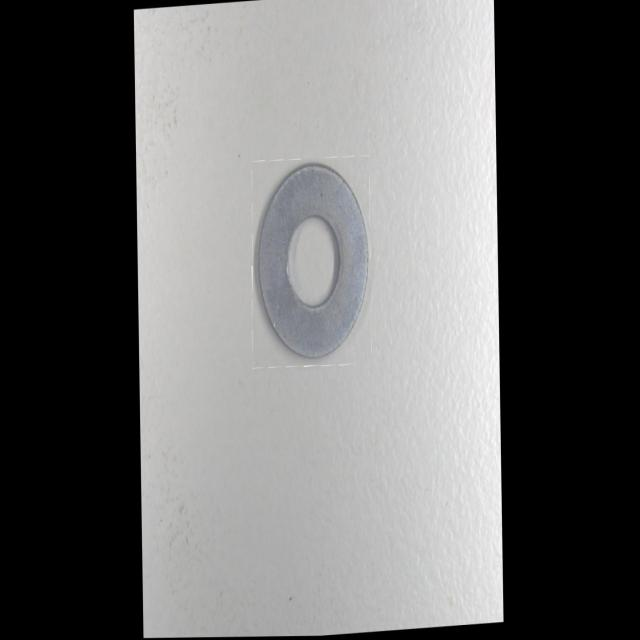washer: (252, 159, 370, 367)
